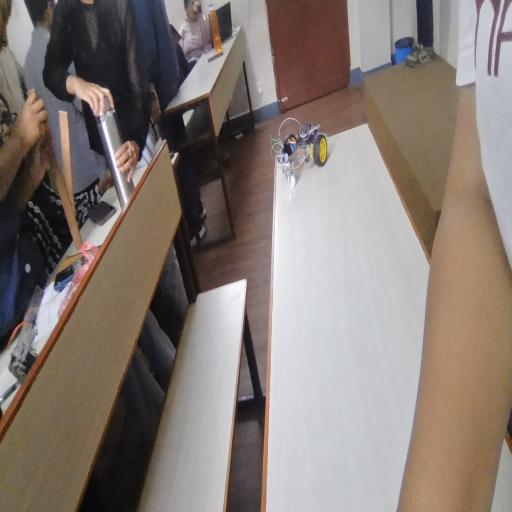car: (271, 109, 350, 227)
